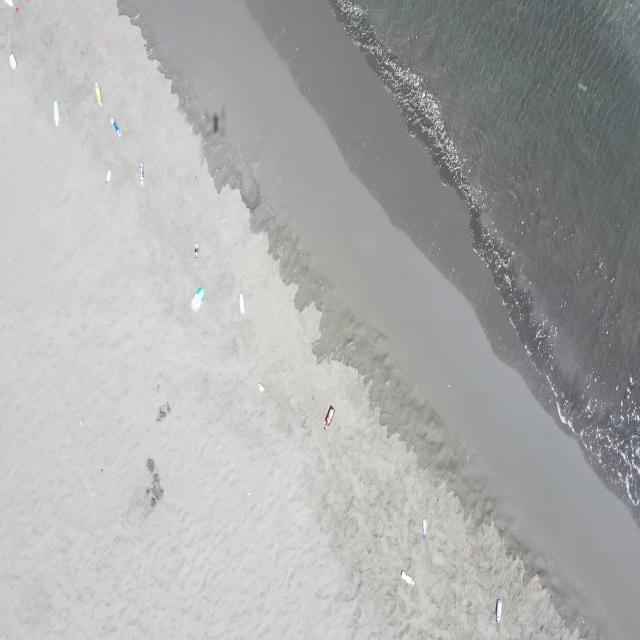Garbage: (145, 457, 163, 506), (192, 287, 203, 311), (156, 402, 169, 420), (400, 569, 413, 586), (324, 404, 333, 427), (111, 116, 120, 136), (52, 100, 59, 125), (94, 81, 101, 104), (8, 51, 16, 68), (495, 597, 500, 623), (212, 112, 218, 132), (4, 0, 16, 8), (139, 161, 143, 184), (239, 292, 243, 312), (105, 169, 111, 181), (422, 519, 426, 536), (193, 243, 198, 256), (258, 383, 263, 392)
